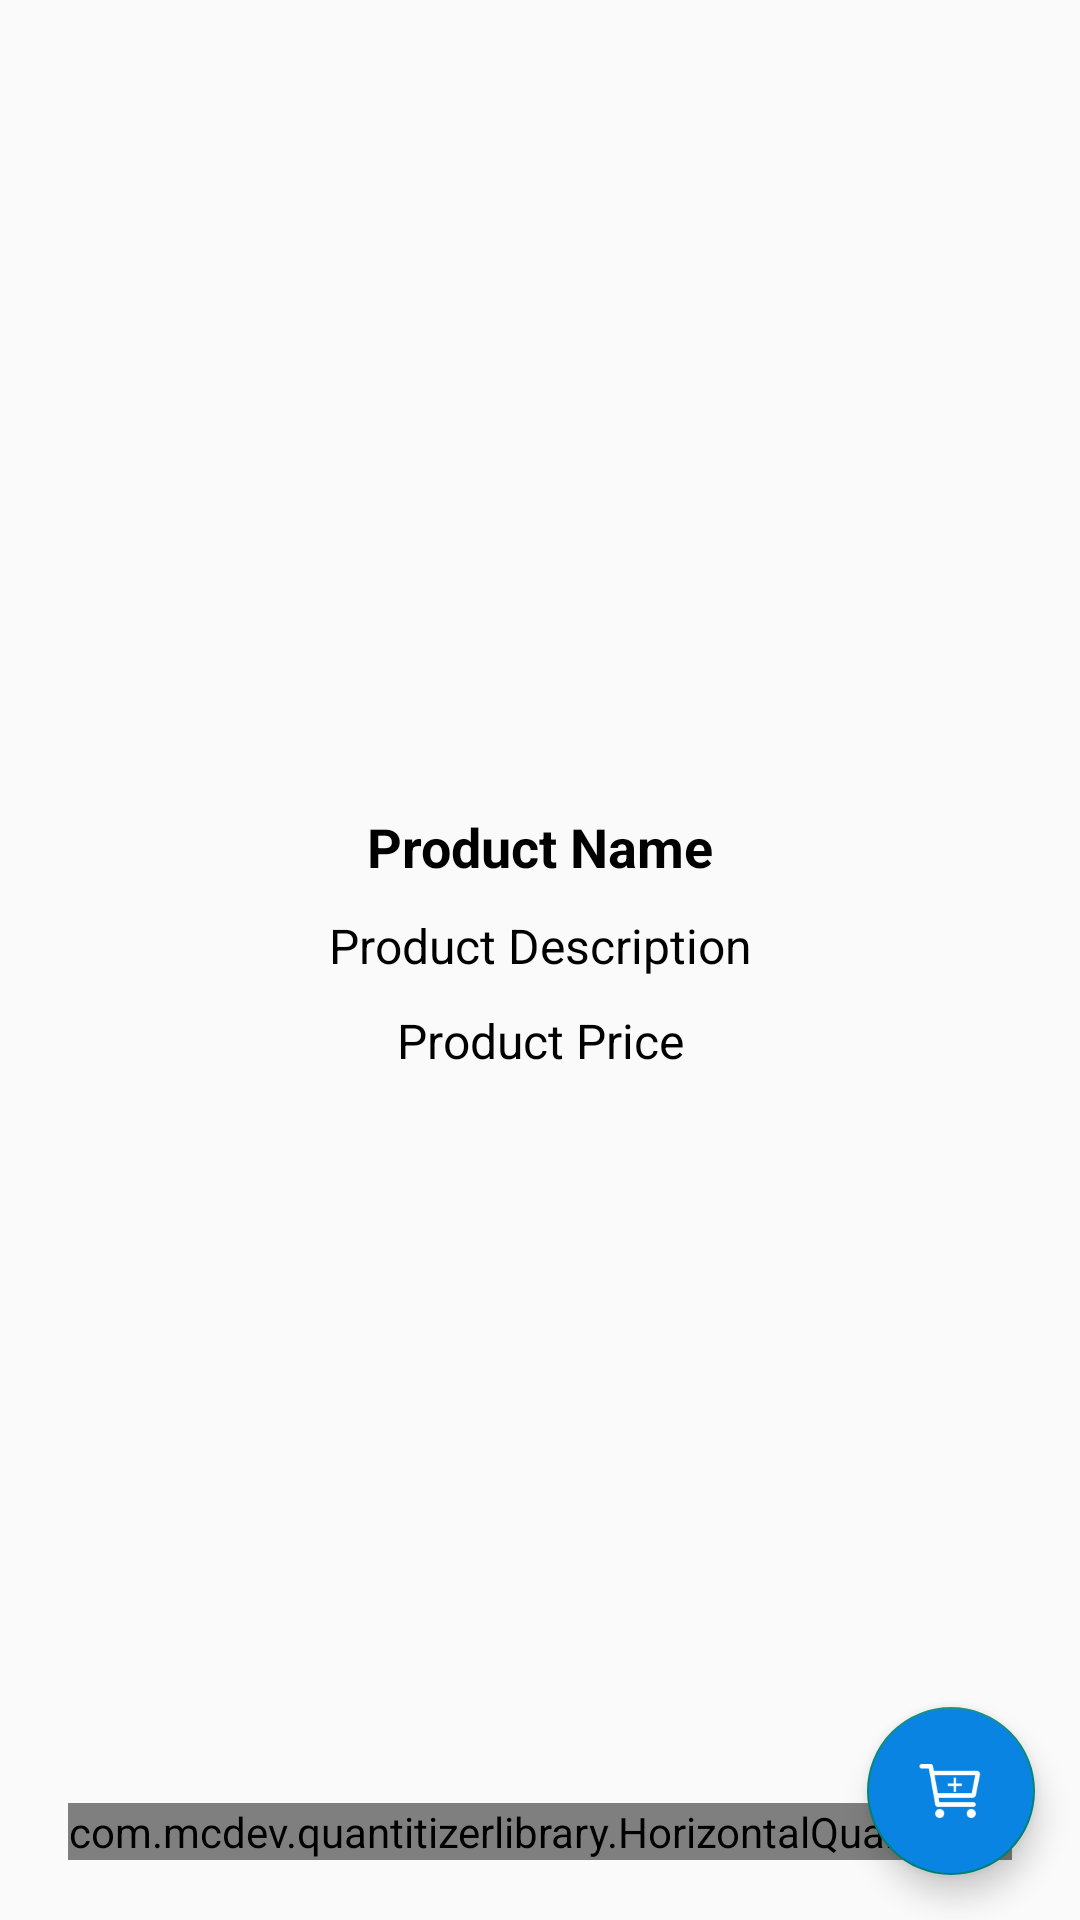

Point at icon controls on the screen. Image size 1080 × 1920, points as point (x, y).
Add to Cart: point (951, 1791)
